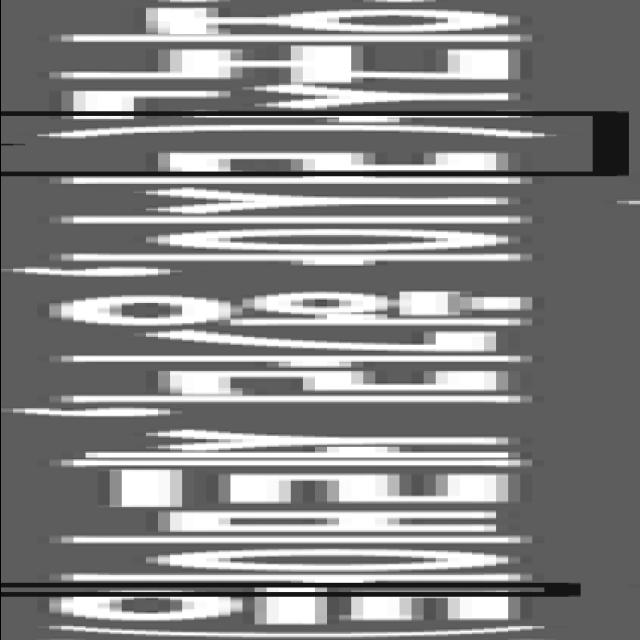bold: (31, 8, 594, 638)
